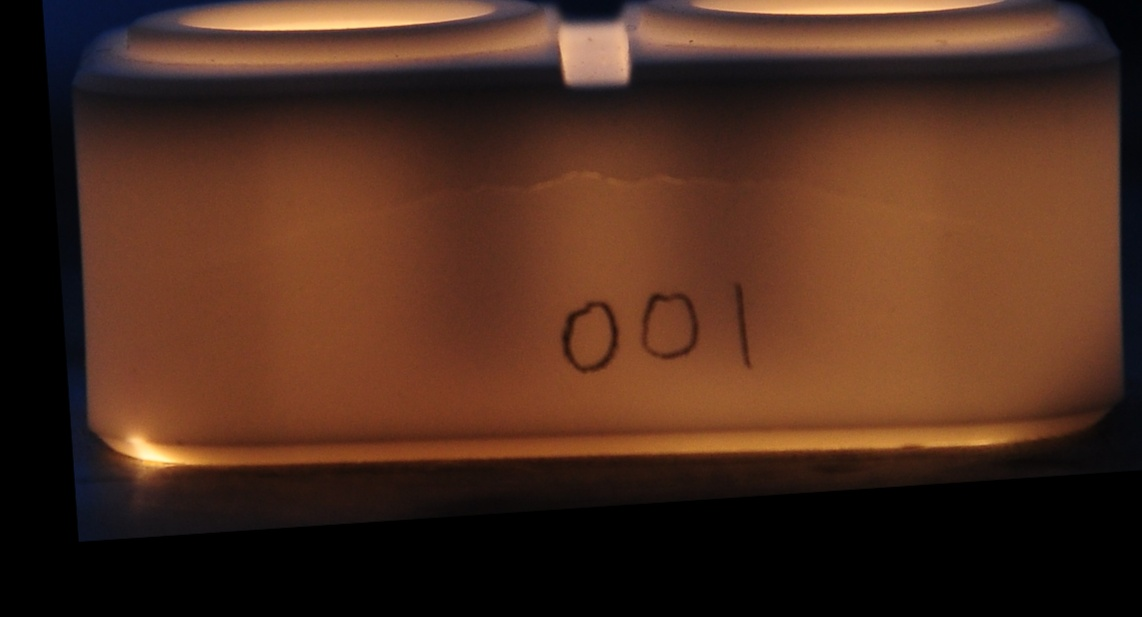flaw: (167, 158, 1019, 265)
